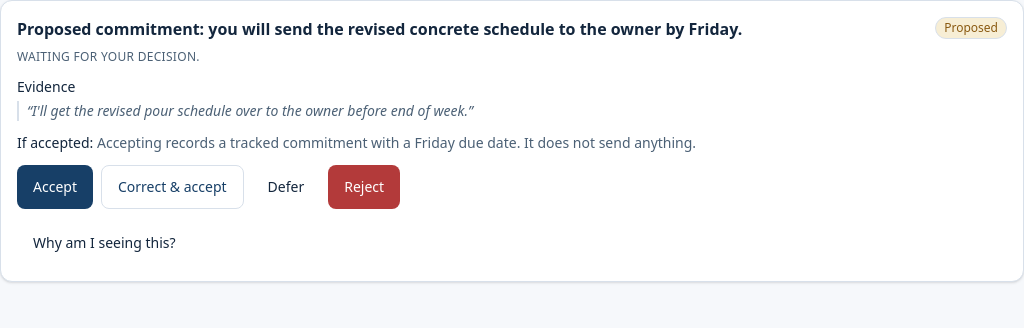
Test: review workbench › surfaces an error without recording a disposition when the server refuses
Click the button "Reject": point(364, 187) x1=328 y1=165 x2=400 y2=209
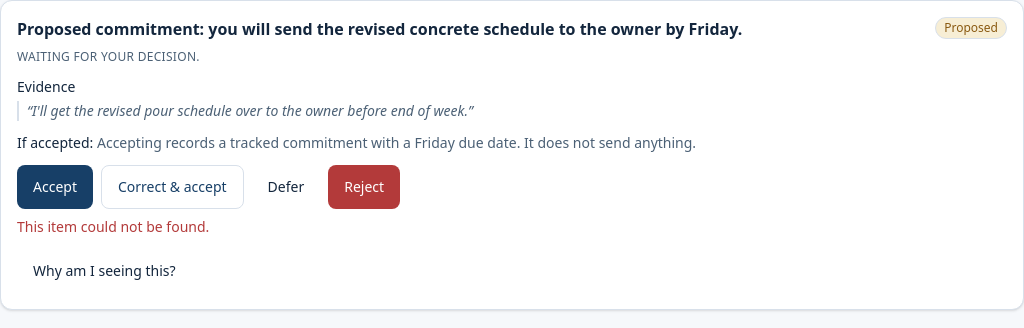
Expected: the message reads "This item could not be found.", x1=17 y1=217 x2=209 y2=236
